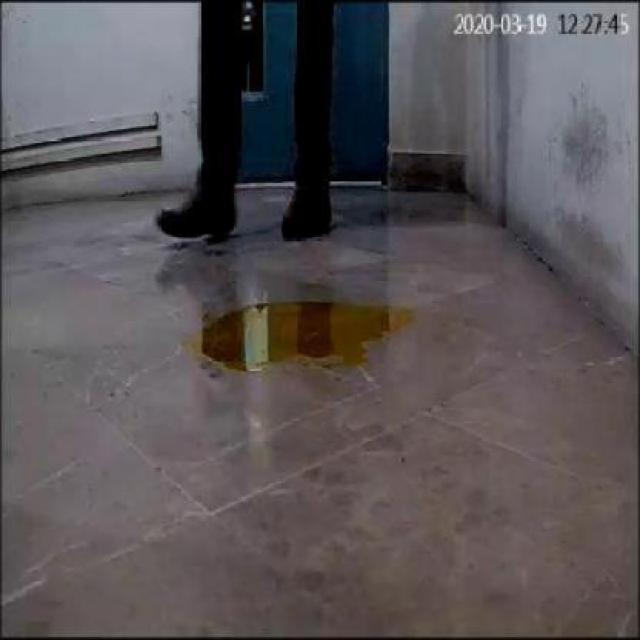spillage: (203, 302, 397, 374)
